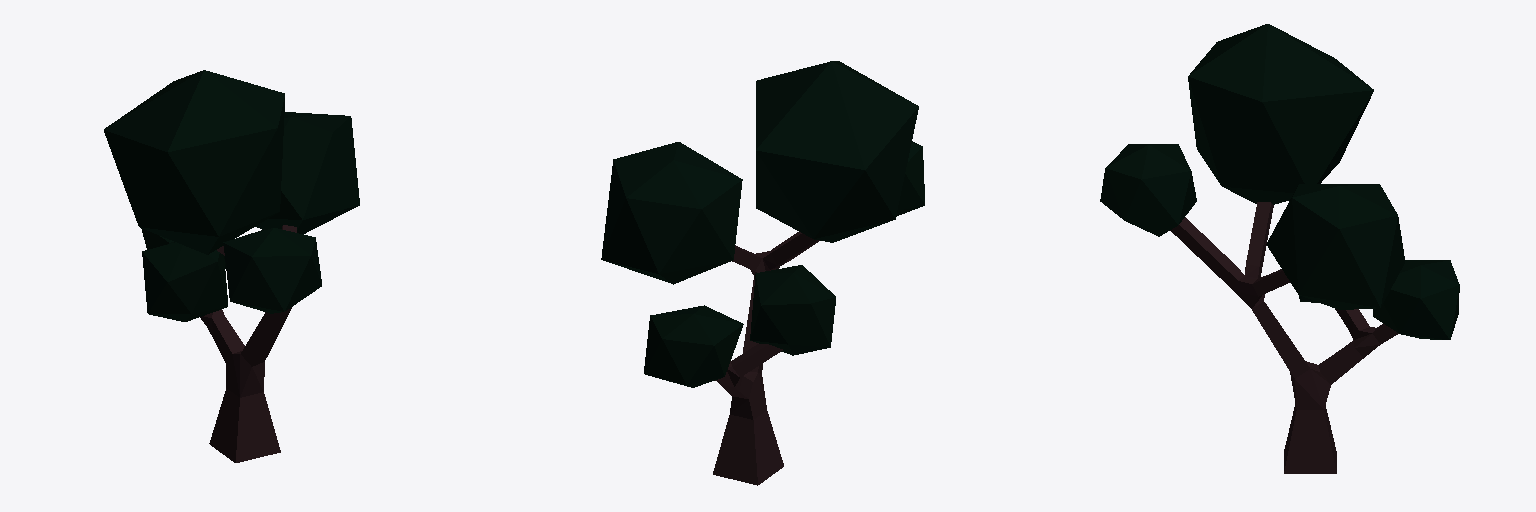
The model's file is dtree7A(F326).obj.
The picture shows the model from 3 angles: view 1: azimuth 30°, elevation 25°; view 2: azimuth 150°, elevation 25°; view 3: azimuth 270°, elevation 25°; orthographic projection.
Parts seen in each view (by area): view 1: Icosphere.018, Icosphere.017, Cube.004, Icosphere.019, Icosphere.015; view 2: Icosphere.018, Icosphere.017, Cube.004, Icosphere.016, Icosphere.015, Icosphere.019; view 3: Icosphere.018, Icosphere.017, Cube.004, Icosphere.019, Icosphere.016.
Boxes of the visible parts, box(x1,y1,x2,y2) form: Icosphere.018: box(104, 70, 284, 254); Icosphere.017: box(255, 112, 359, 233); Cube.004: box(200, 225, 296, 462); Icosphere.019: box(223, 228, 321, 313); Icosphere.015: box(142, 242, 227, 321); Icosphere.018: box(756, 61, 918, 242); Icosphere.017: box(601, 142, 742, 284); Cube.004: box(713, 232, 819, 485); Icosphere.016: box(644, 305, 743, 387); Icosphere.015: box(750, 265, 835, 355); Icosphere.019: box(896, 141, 924, 216); Icosphere.018: box(1188, 24, 1373, 204); Icosphere.017: box(1266, 184, 1404, 309); Cube.004: box(1170, 202, 1398, 473); Icosphere.019: box(1100, 144, 1196, 236); Icosphere.016: box(1373, 260, 1459, 339).
Bounding box in the file's own units: 1.44 × 2.25 × 1.79.